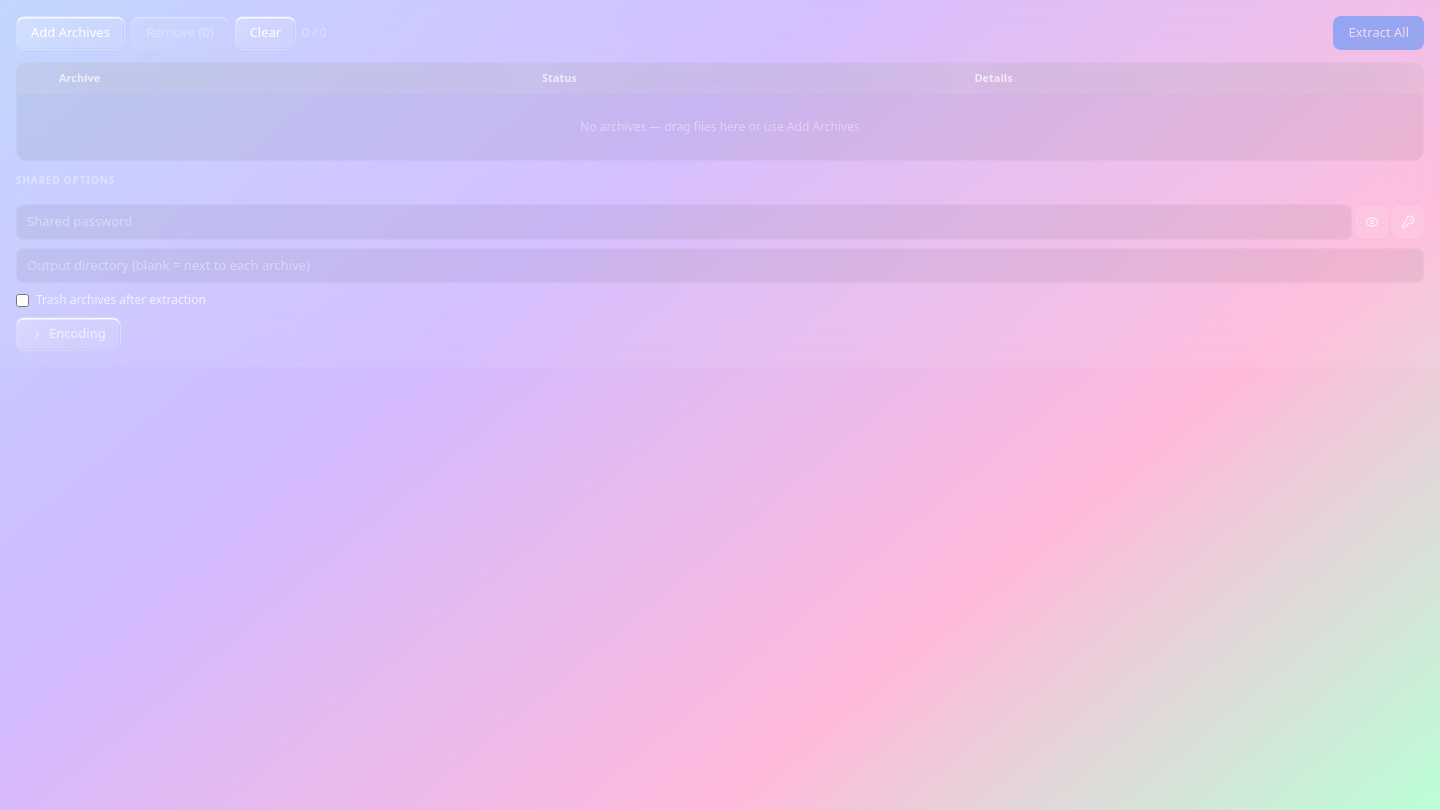
Scenario: BatchPanel › shows Done/Failed status after extraction
Click the button "Add Archives" at (70, 33), box [16, 16, 125, 50]
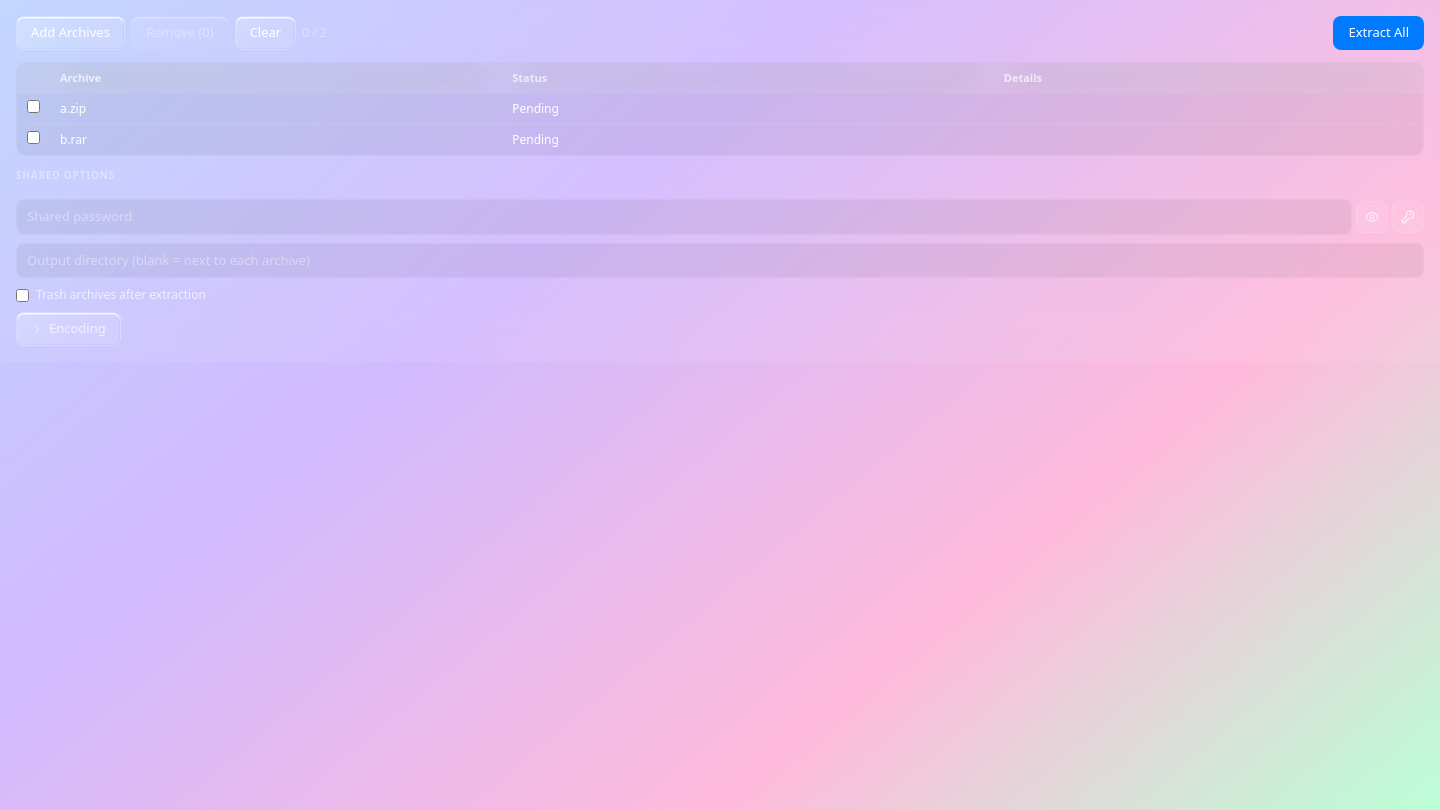
Check: the text "a.zip" is shown, box [50, 94, 502, 124]
Click the button "Extract All" at (1379, 33), box [1334, 16, 1424, 50]
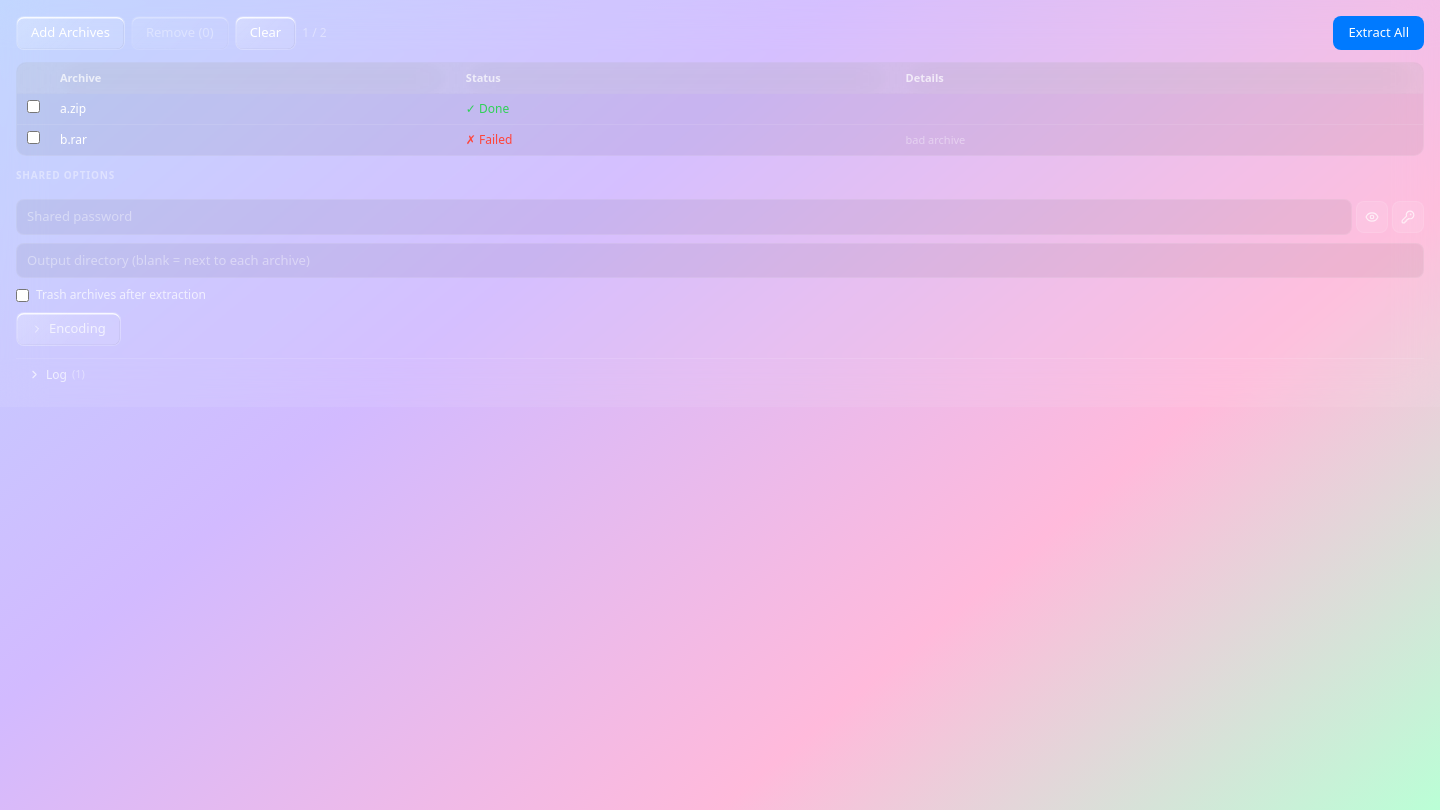
Check: the text "✓ Done" is shown, box [456, 94, 896, 124]
Check: the text "✗ Failed" is shown, box [456, 124, 896, 155]
